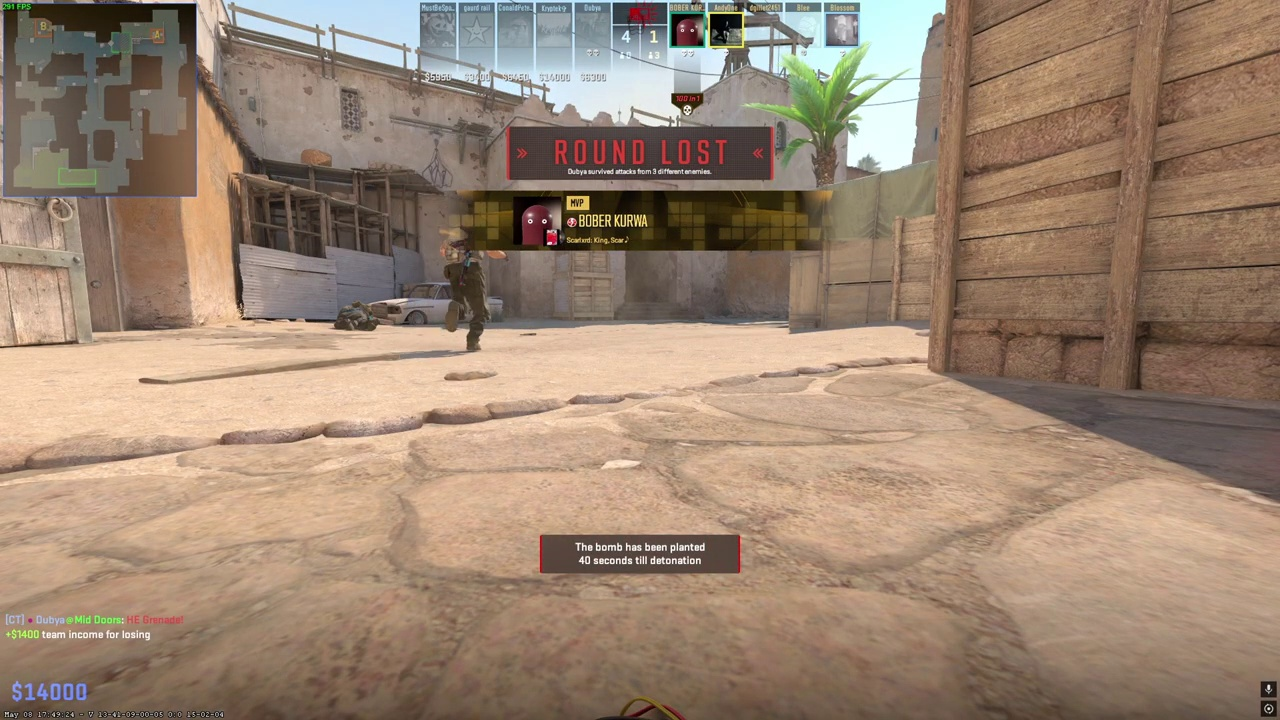Terrorist: (443, 232, 490, 350)
